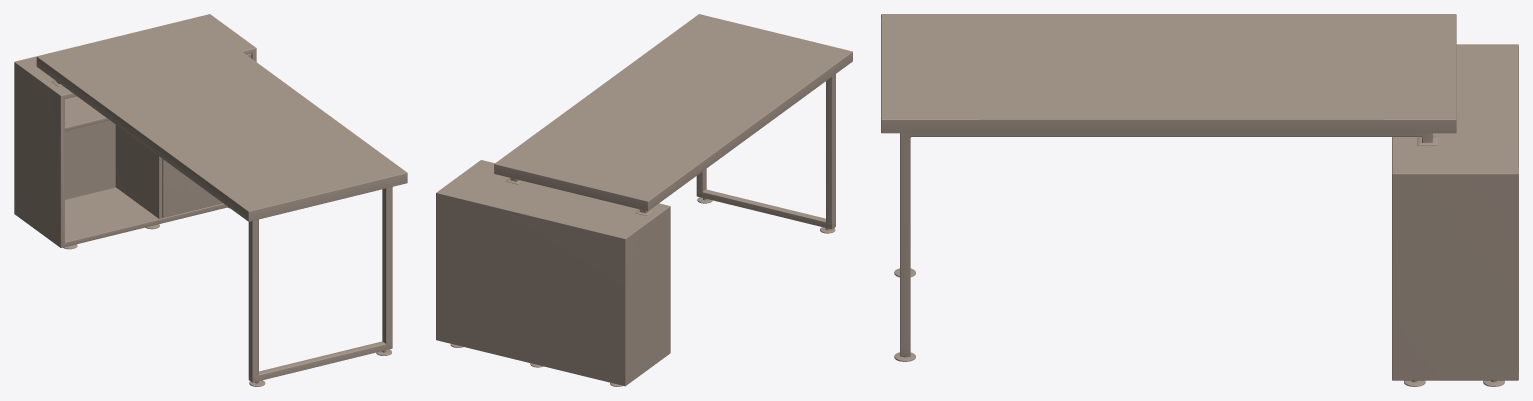
File: Desk02.fbx
The picture shows the model from 3 angles, left to right: view 1: azimuth 30°, elevation 25°; view 2: azimuth 150°, elevation 25°; view 3: azimuth 270°, elevation 25°; orthographic projection. The views are drawn at different scales.
Visible parts, largest first — view 1: StructureOBJ:StructureOBJ:polySurface8; view 2: StructureOBJ:StructureOBJ:polySurface8; view 3: StructureOBJ:StructureOBJ:polySurface8.
Part boxes in pixels (x1,y1,x2,y2): StructureOBJ:StructureOBJ:polySurface8: (14,14,407,386); StructureOBJ:StructureOBJ:polySurface8: (436,14,852,386); StructureOBJ:StructureOBJ:polySurface8: (881,14,1518,386).
Bounding box in the file's own units: 0.9537 × 0.8475 × 1.97.
